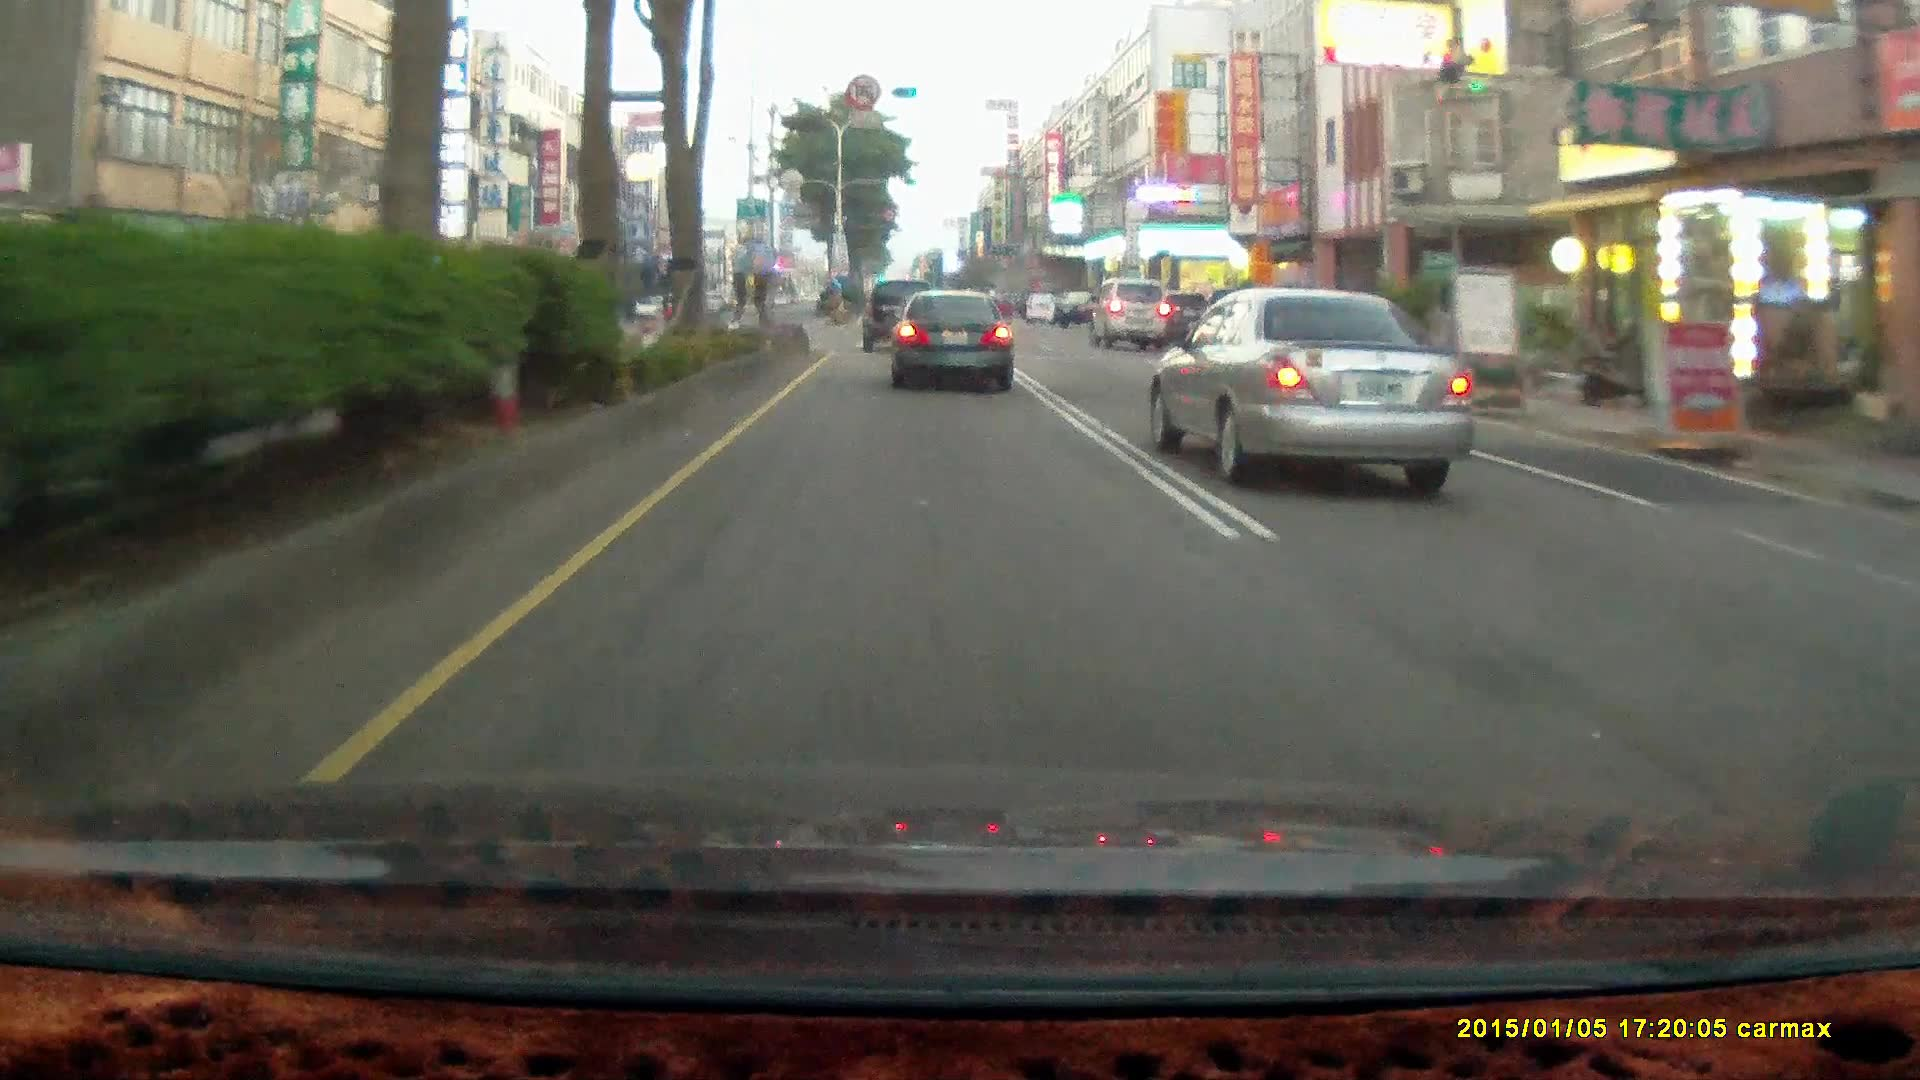vehicle: (1149, 286, 1476, 479), (889, 286, 1019, 394), (889, 284, 1011, 389), (861, 278, 940, 355), (1091, 276, 1171, 349), (1091, 276, 1170, 347), (861, 280, 938, 352), (1054, 285, 1114, 324), (1025, 287, 1058, 316)
